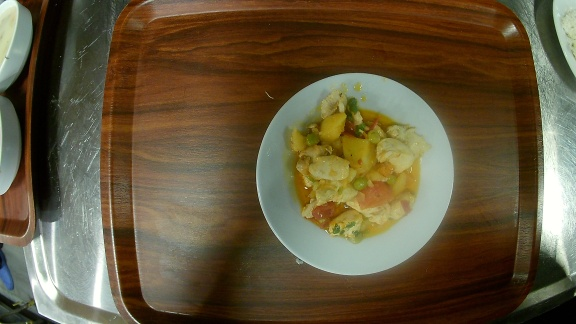bezelyelitavuk: (254, 71, 455, 277)
